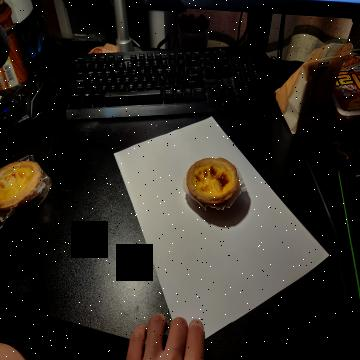EggTart: (187, 156, 238, 206)
